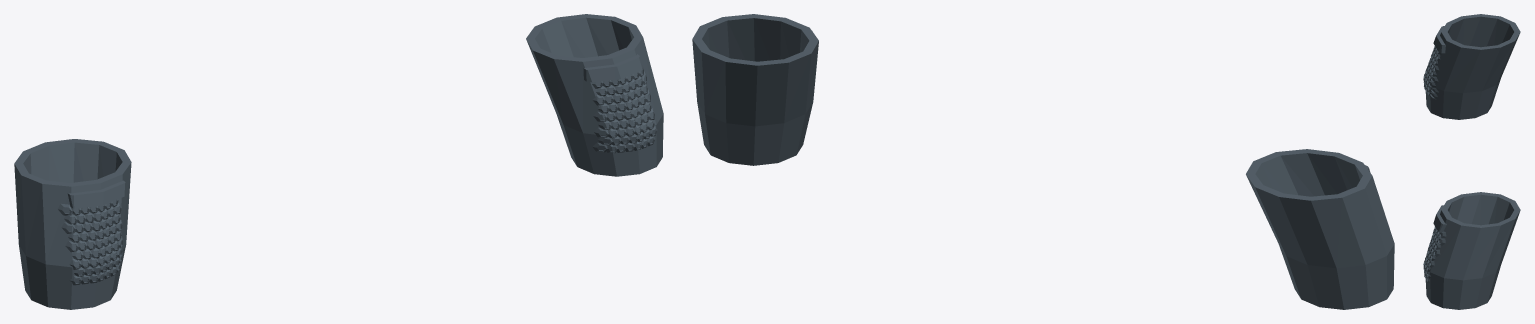
File: chain_wrists-male.glb
The picture shows the model from 3 angles, left to right: view 1: azimuth 30°, elevation 25°; view 2: azimuth 150°, elevation 25°; view 3: azimuth 270°, elevation 25°; orthographic projection. The views are drawn at different scales.
Visible parts, largest first — view 1: chain wrist guard -1, chain wrist guard 1, chain woven coverage on chain wrist guard 1, chain woven coverage on chain wrist guard -1, Bracer rolled upper lip 1, Bracer rolled upper lip -1; view 2: chain wrist guard -1, chain wrist guard 1; view 3: chain wrist guard 1, chain wrist guard -1, chain woven coverage on chain wrist guard 1, chain woven coverage on chain wrist guard -1, Bracer rolled upper lip -1, Bracer rolled upper lip 1.
Part boxes in pixels (x1=…): chain wrist guard -1: x1=14, y1=139, x2=131, y2=309; chain wrist guard 1: x1=526, y1=14, x2=663, y2=176; chain woven coverage on chain wrist guard 1: x1=592, y1=65, x2=657, y2=153; chain woven coverage on chain wrist guard -1: x1=58, y1=199, x2=123, y2=285; Bracer rolled upper lip 1: x1=583, y1=54, x2=642, y2=82; Bracer rolled upper lip -1: x1=67, y1=180, x2=125, y2=208; chain wrist guard -1: x1=1246, y1=149, x2=1394, y2=309; chain wrist guard 1: x1=692, y1=14, x2=818, y2=165; chain wrist guard 1: x1=1425, y1=192, x2=1520, y2=309; chain wrist guard -1: x1=1425, y1=14, x2=1520, y2=119; chain woven coverage on chain wrist guard 1: x1=1423, y1=226, x2=1446, y2=283; chain woven coverage on chain wrist guard -1: x1=1423, y1=46, x2=1440, y2=99; Bracer rolled upper lip -1: x1=1433, y1=26, x2=1445, y2=53; Bracer rolled upper lip 1: x1=1433, y1=205, x2=1446, y2=232.
Size of the model in its own units: 3.69 by 0.63 by 0.693.
